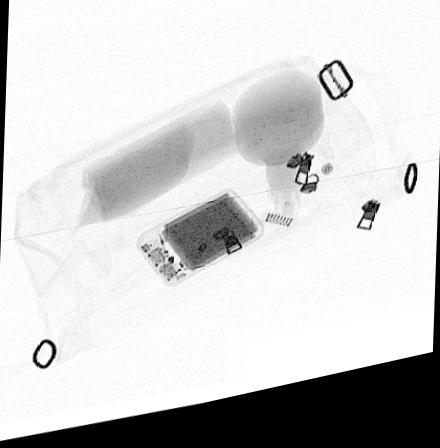Powerbank: (134, 198, 264, 294)
